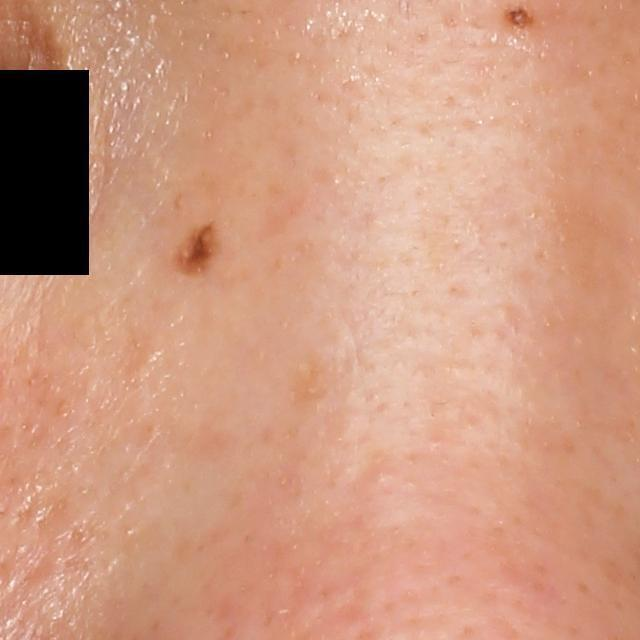melasma: (168, 225, 225, 281)
